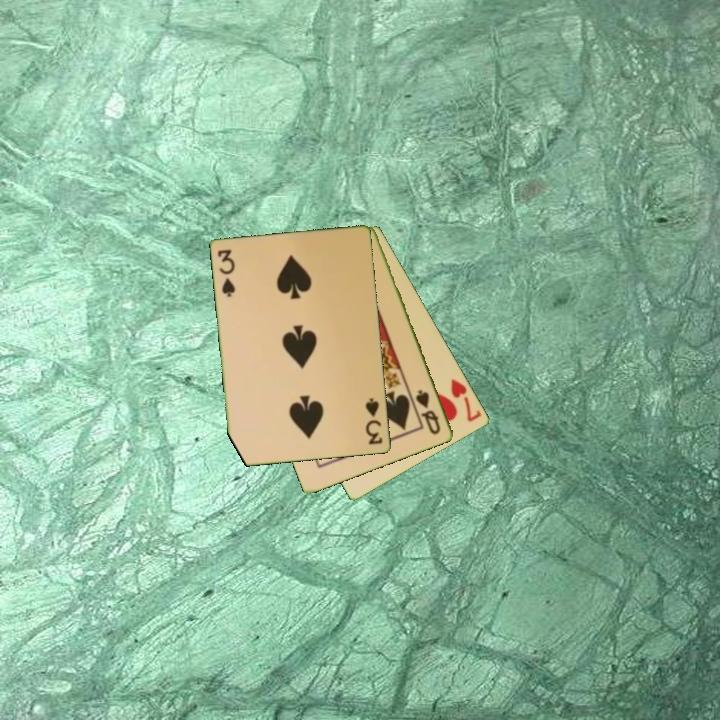3s: (214, 246, 238, 300), (362, 395, 386, 448)
7h: (448, 375, 485, 425)
Qs: (412, 386, 444, 438)
